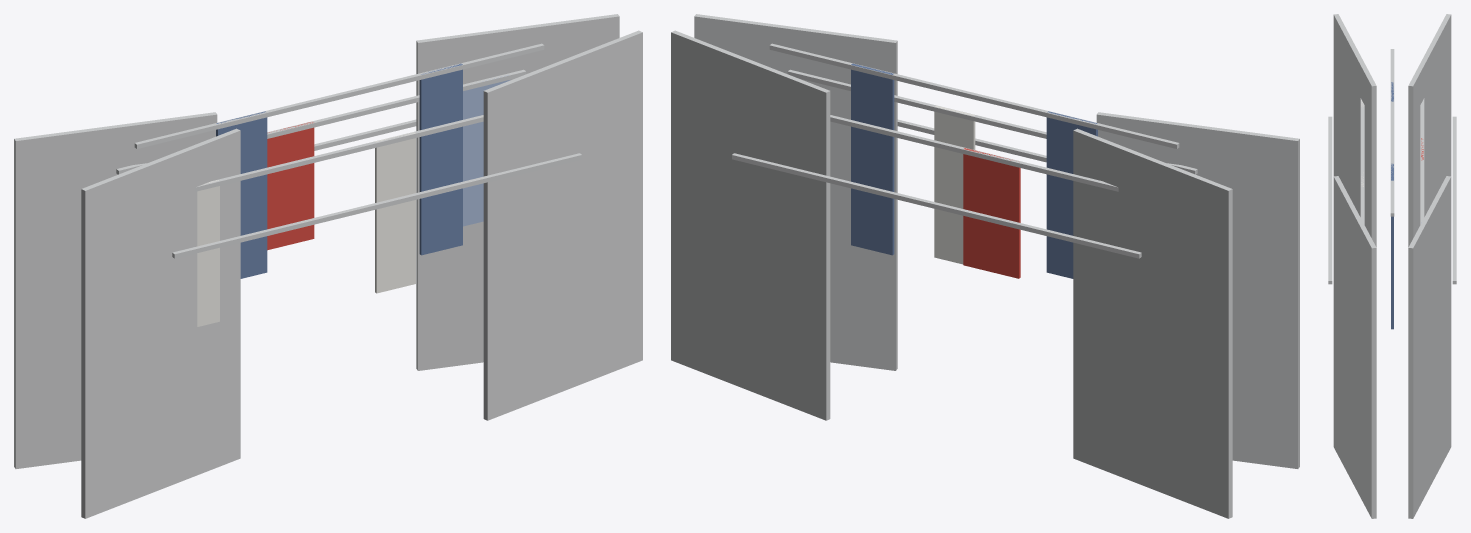
The model's file is Drying_Rack.fbx.
3 renders of one model, left to right at view 1: azimuth 30°, elevation 25°; view 2: azimuth 150°, elevation 25°; view 3: azimuth 270°, elevation 25°, orthographic. The views are drawn at different scales.
Parts seen in each view (by area): view 1: Drying_Rack; view 2: Drying_Rack; view 3: Drying_Rack.
Boxes of the visible parts, bbox=[...] form: Drying_Rack: bbox=[14, 14, 642, 518]; Drying_Rack: bbox=[671, 14, 1299, 518]; Drying_Rack: bbox=[1328, 14, 1456, 518].
Size of the model in its own units: 2.23 by 1.2 by 0.516.
